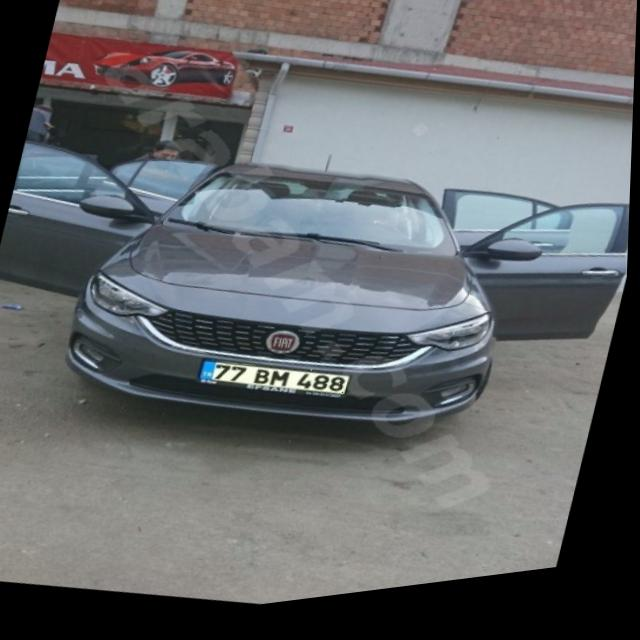license_plate: (199, 351, 354, 419)
